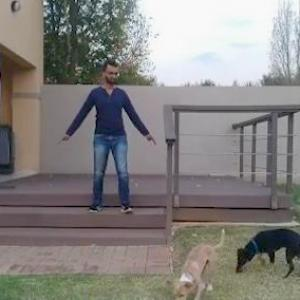land: (66, 63, 152, 225)
